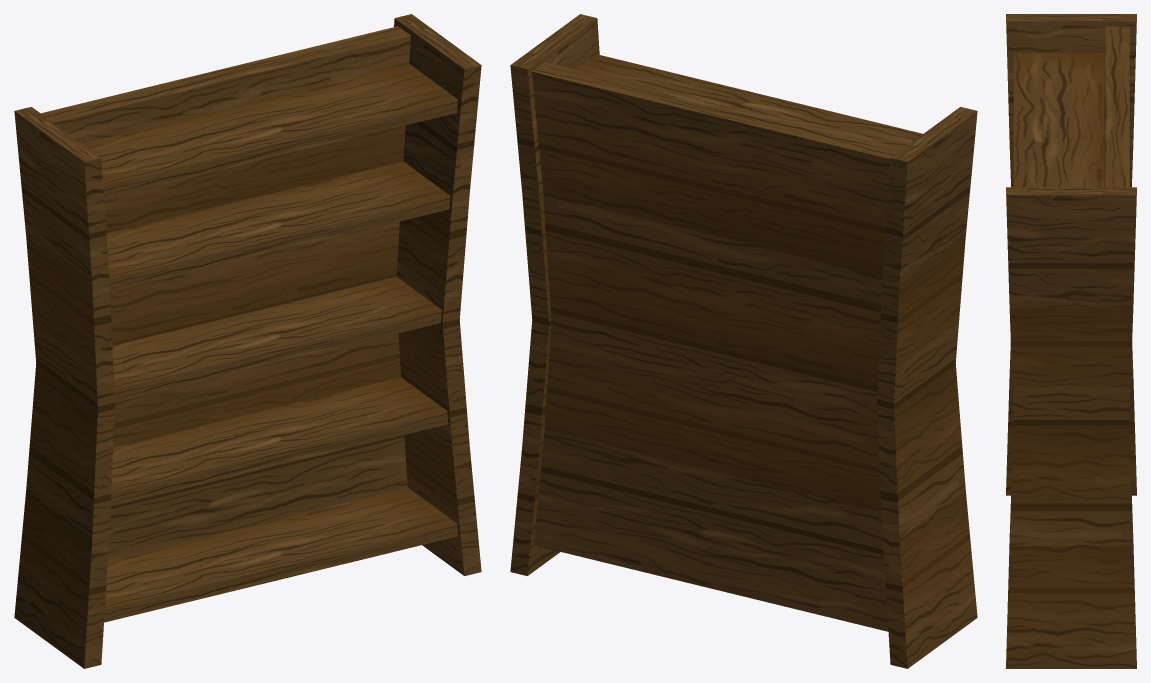
The model's file is Mimic_Mayhem_Common_Bookshelf.FBX.
3 renders of one model, left to right at view 1: azimuth 30°, elevation 25°; view 2: azimuth 150°, elevation 25°; view 3: azimuth 270°, elevation 25°, orthographic. The views are drawn at different scales.
Visible parts, largest first — view 1: Box001; view 2: Box001; view 3: Box001.
Part boxes in pixels (x1,y1,x2,y2): Box001: (14,14,481,668); Box001: (510,14,977,668); Box001: (1006,14,1136,668).
Size of the model in its own units: 59.06 by 72 by 18.
